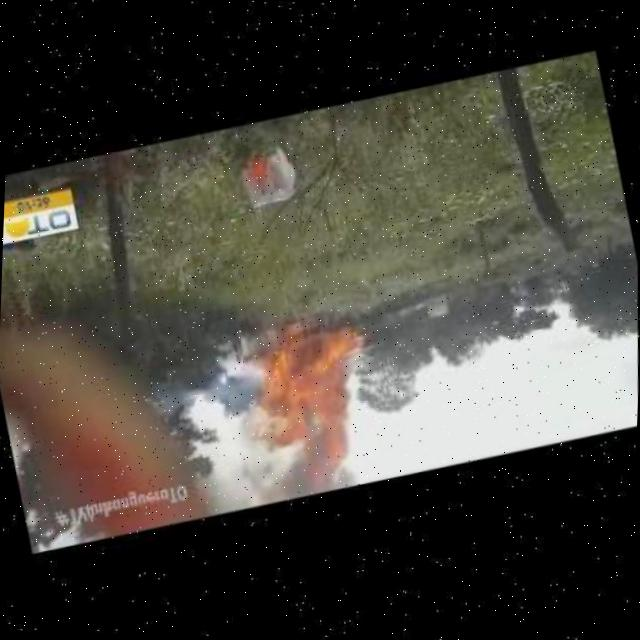fire: (238, 327, 393, 498)
